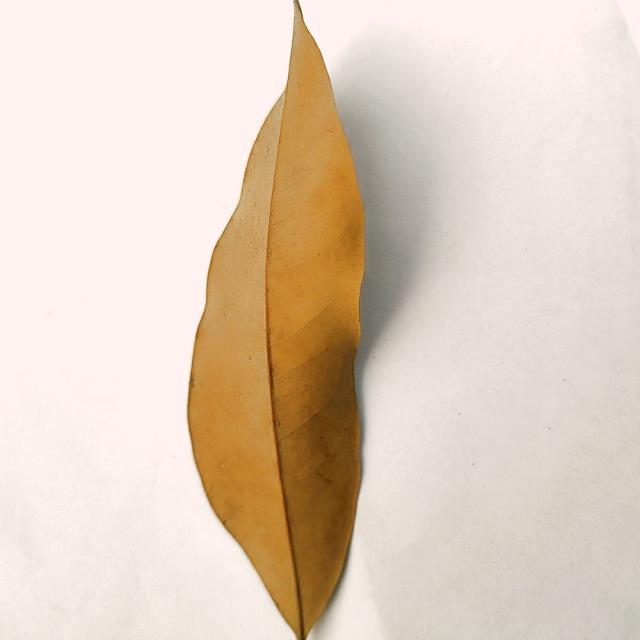Dry_Leaf-Lychee: (187, 0, 367, 639)
